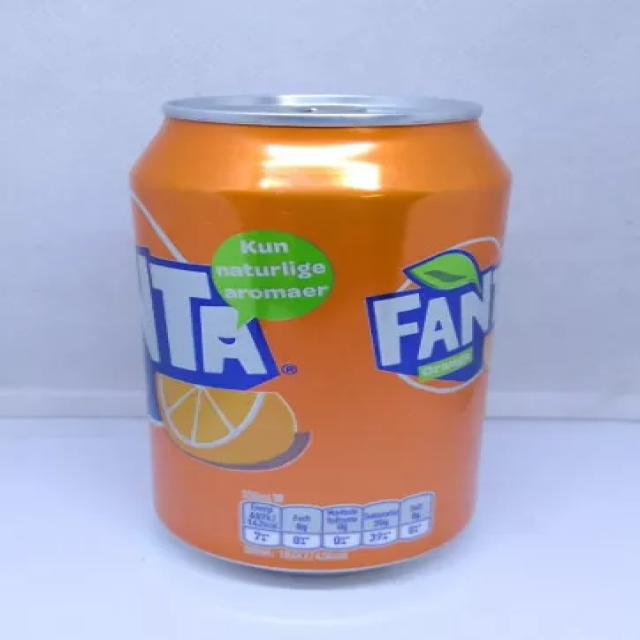fanta: (137, 92, 498, 592)
